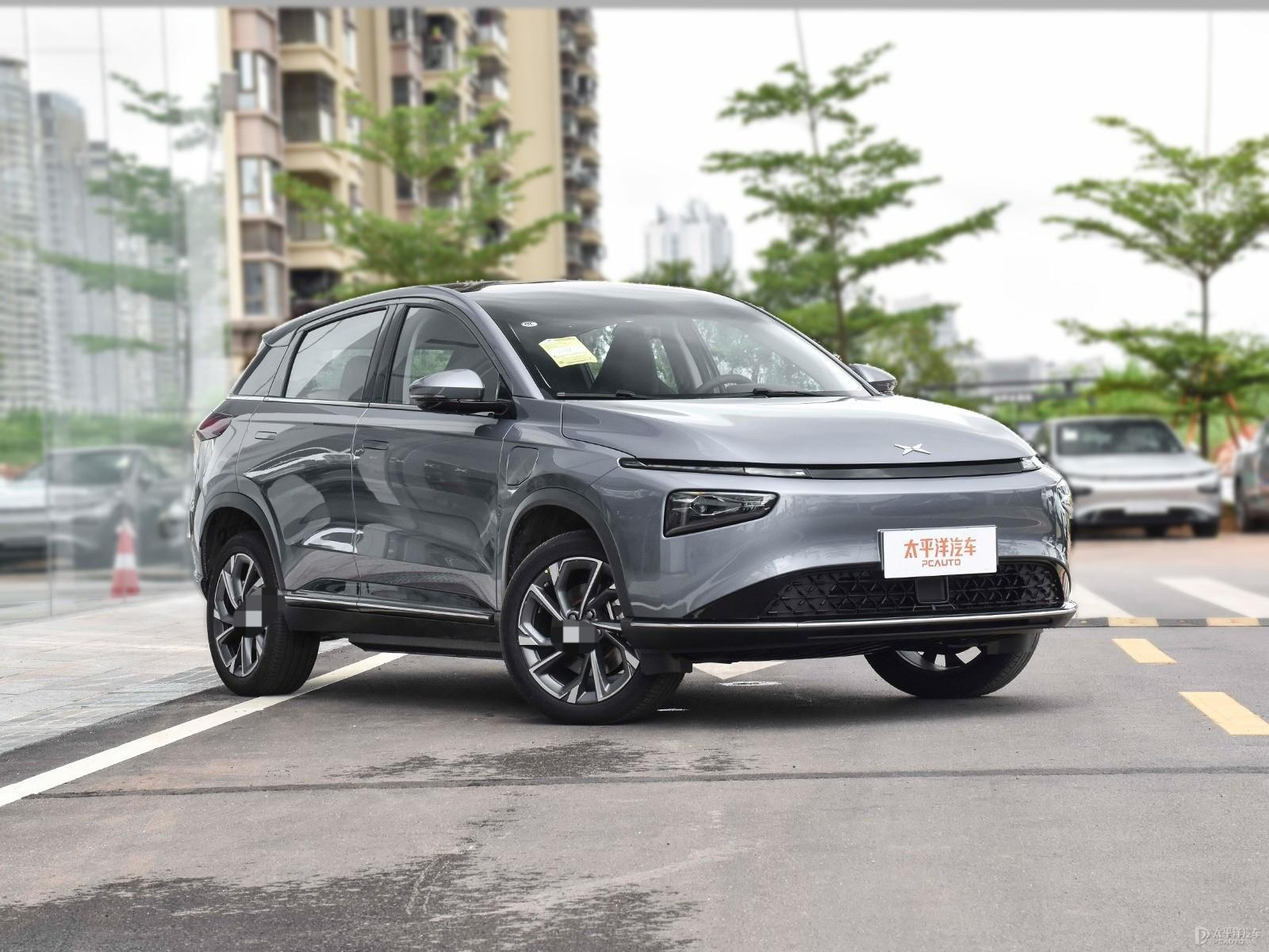XPeng Motors: (893, 443, 932, 455)
